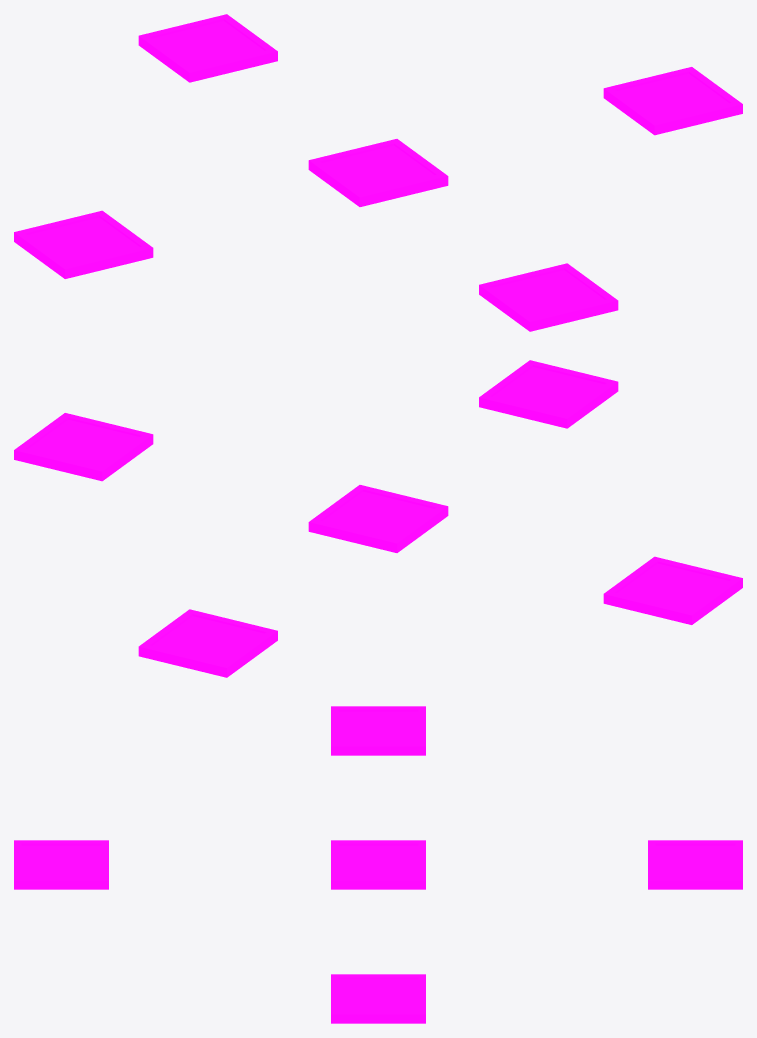
File: basePlanes3.gltf
3 views of the same model, one above another, from view 1: azimuth 30°, elevation 25°; view 2: azimuth 150°, elevation 25°; view 3: azimuth 270°, elevation 25° (orthographic). The views are drawn at different scales.
Visible parts, largest first — view 1: baseCenterPlane, baseLeftPlane, baseRightPlane, baseUpPlane, baseDownPlane; view 2: baseCenterPlane, baseLeftPlane, baseRightPlane, baseUpPlane, baseDownPlane; view 3: baseCenterPlane, baseLeftPlane, baseRightPlane, baseUpPlane, baseDownPlane.
Part boxes in pixels (left/top/right/bottom): baseCenterPlane: left=308, top=139, right=448, bottom=206; baseLeftPlane: left=14, top=210, right=153, bottom=278; baseRightPlane: left=603, top=67, right=742, bottom=135; baseUpPlane: left=138, top=14, right=277, bottom=82; baseDownPlane: left=479, top=263, right=618, bottom=331; baseCenterPlane: left=308, top=485, right=448, bottom=552; baseLeftPlane: left=603, top=556, right=742, bottom=624; baseRightPlane: left=14, top=413, right=153, bottom=481; baseUpPlane: left=138, top=609, right=277, bottom=677; baseDownPlane: left=479, top=360, right=618, bottom=428; baseCenterPlane: left=331, top=840, right=425, bottom=889; baseLeftPlane: left=331, top=706, right=425, bottom=755; baseRightPlane: left=331, top=974, right=425, bottom=1023; baseUpPlane: left=648, top=840, right=742, bottom=889; baseDownPlane: left=14, top=840, right=108, bottom=889.
Bounding box in the file's own units: 23 × 0.3147 × 23.
